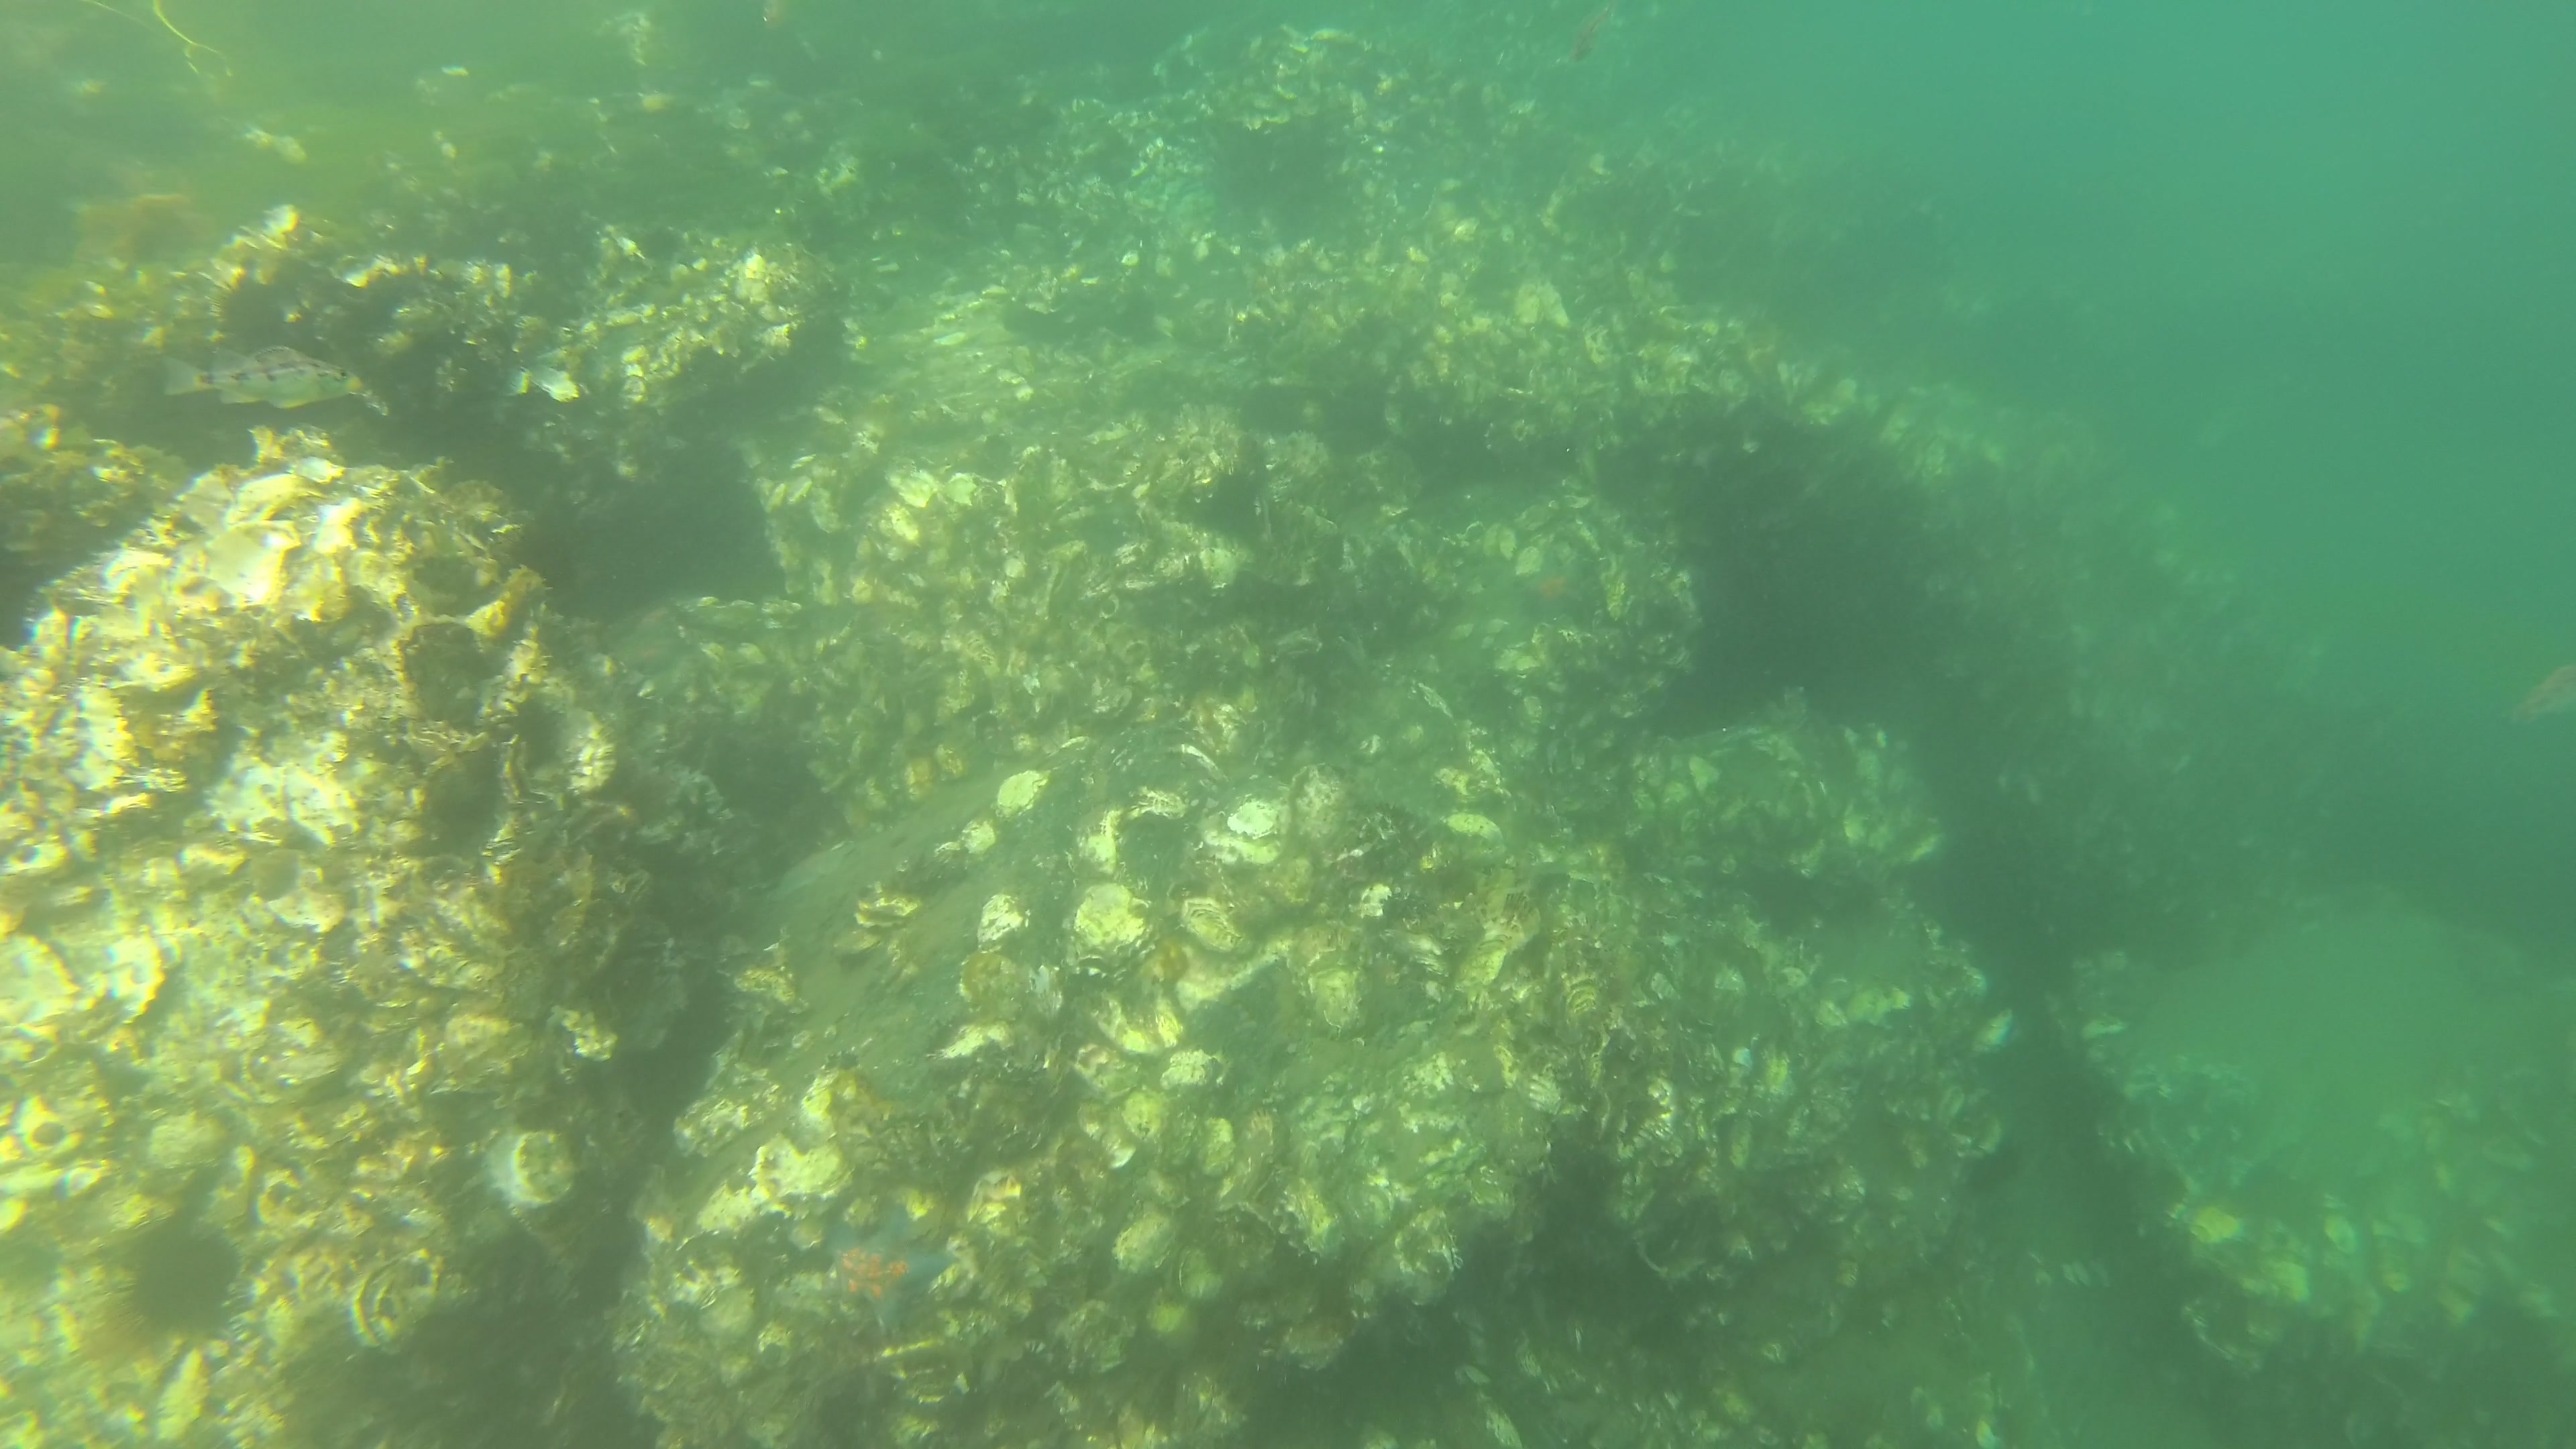echinus: (117, 1217, 242, 1341), (1752, 867, 1817, 932), (1967, 1145, 2020, 1200)
starfish: (826, 1205, 945, 1332), (1513, 552, 1594, 619)
